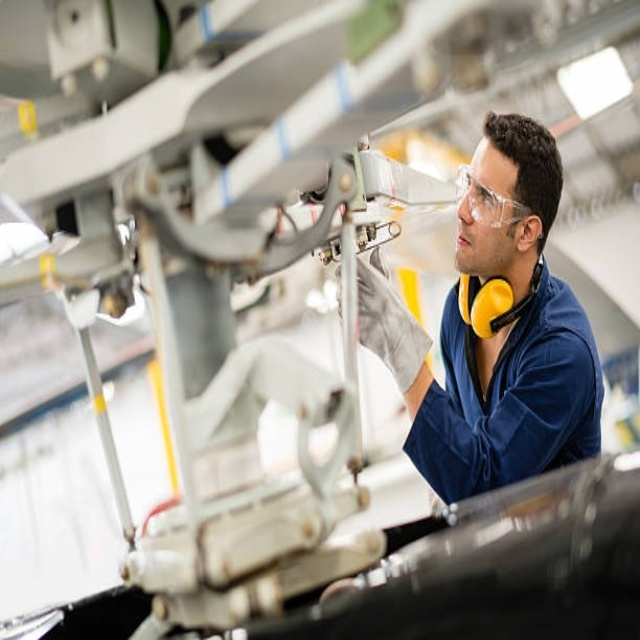Gafas: (457, 165, 536, 229)
Guantes: (340, 251, 433, 393)
Sin_mascara: (452, 215, 477, 268)
